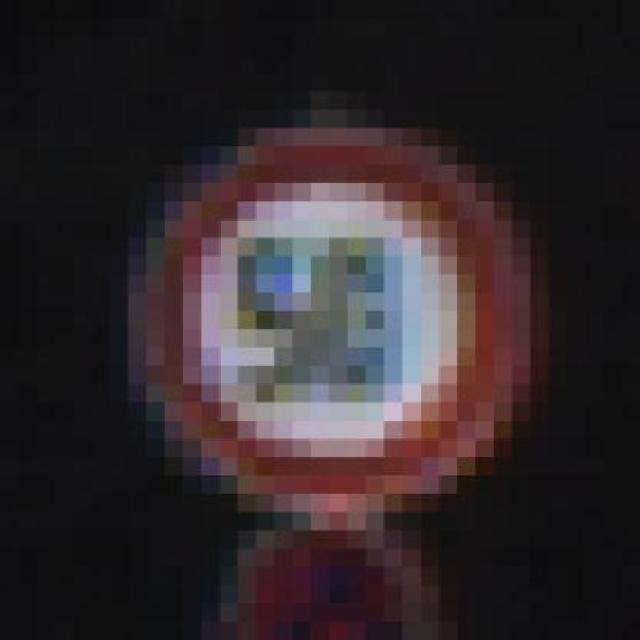50 mph speed limit: (112, 107, 533, 528)
